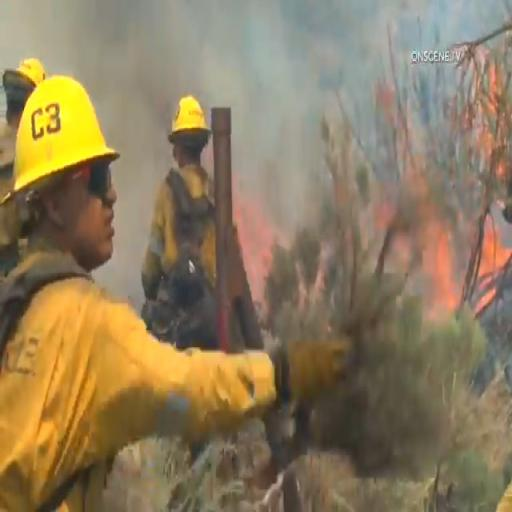fire: (410, 2, 512, 304)
smoke: (98, 3, 342, 85)
